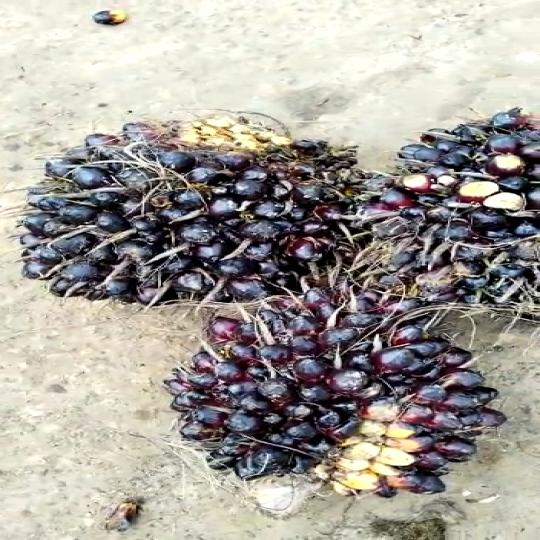mentah: (168, 269, 504, 509), (13, 110, 342, 300), (373, 100, 535, 315)
